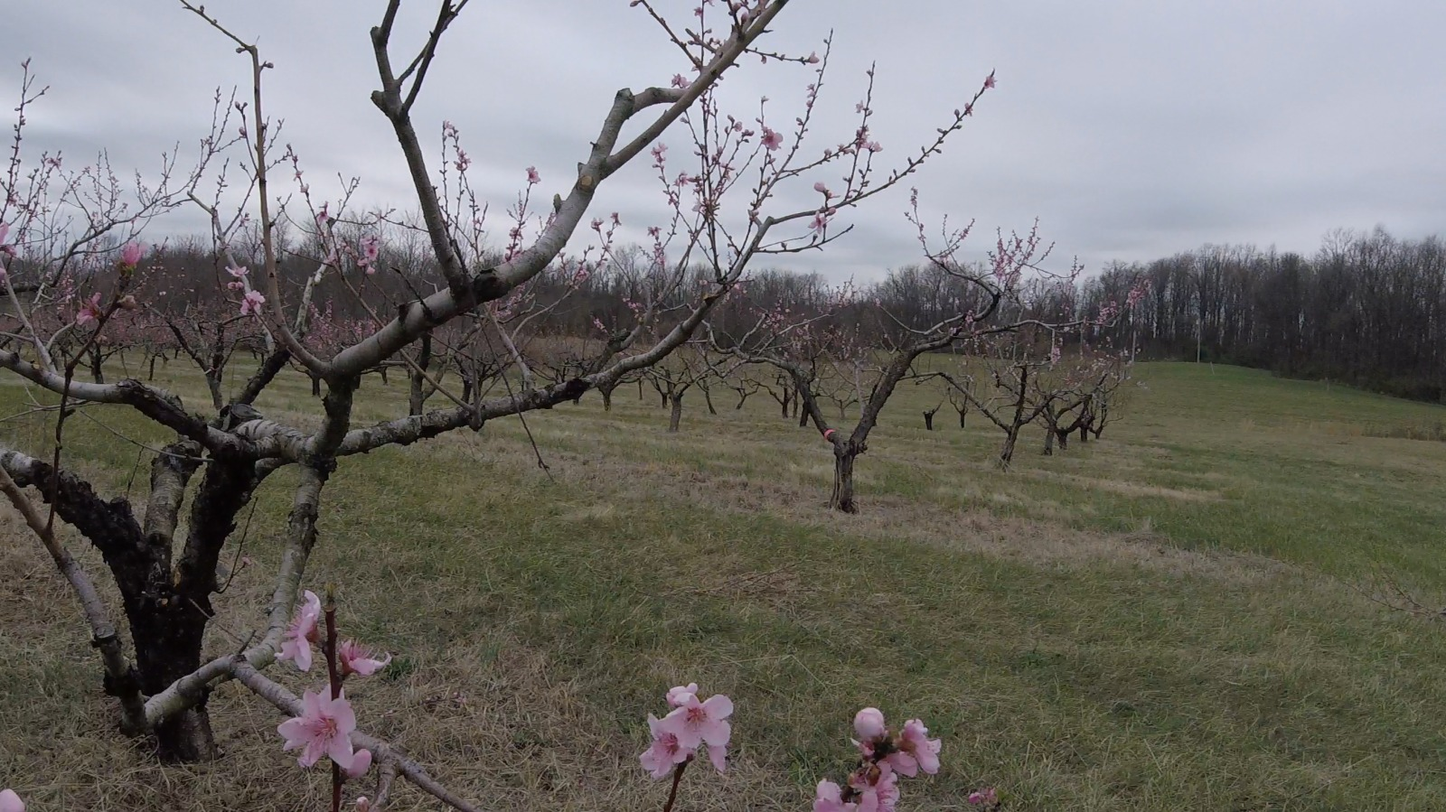flower: (812, 719, 942, 812), (639, 683, 734, 779), (277, 685, 372, 779), (274, 590, 322, 671), (851, 708, 894, 756), (340, 638, 392, 676), (110, 237, 155, 266), (804, 206, 833, 238), (358, 234, 378, 274), (77, 293, 102, 325), (239, 291, 266, 315), (760, 128, 784, 154), (0, 789, 25, 812), (859, 134, 883, 153), (526, 166, 544, 191), (0, 219, 10, 245), (226, 267, 249, 278), (982, 77, 997, 89)
